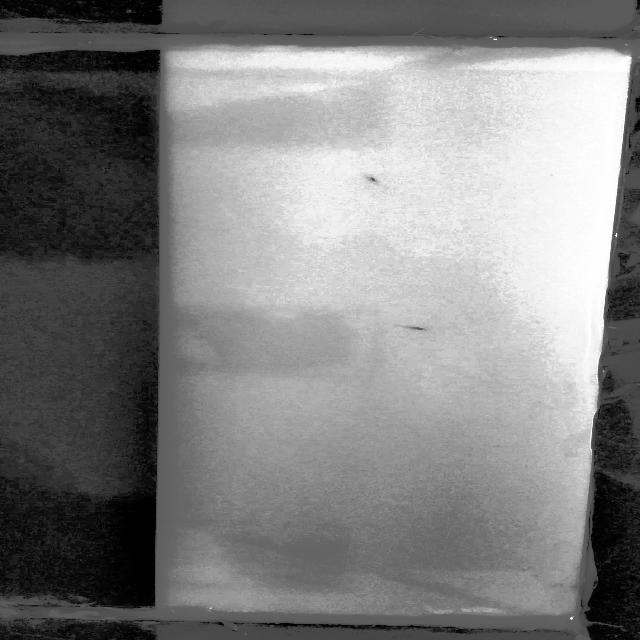shrimp: (392, 322, 430, 334), (361, 174, 380, 184)
